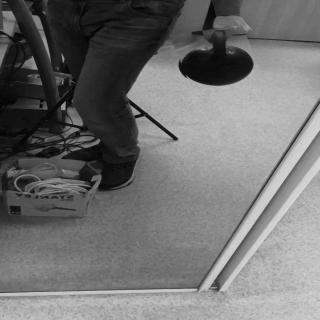kettlebell: (176, 28, 261, 89)
